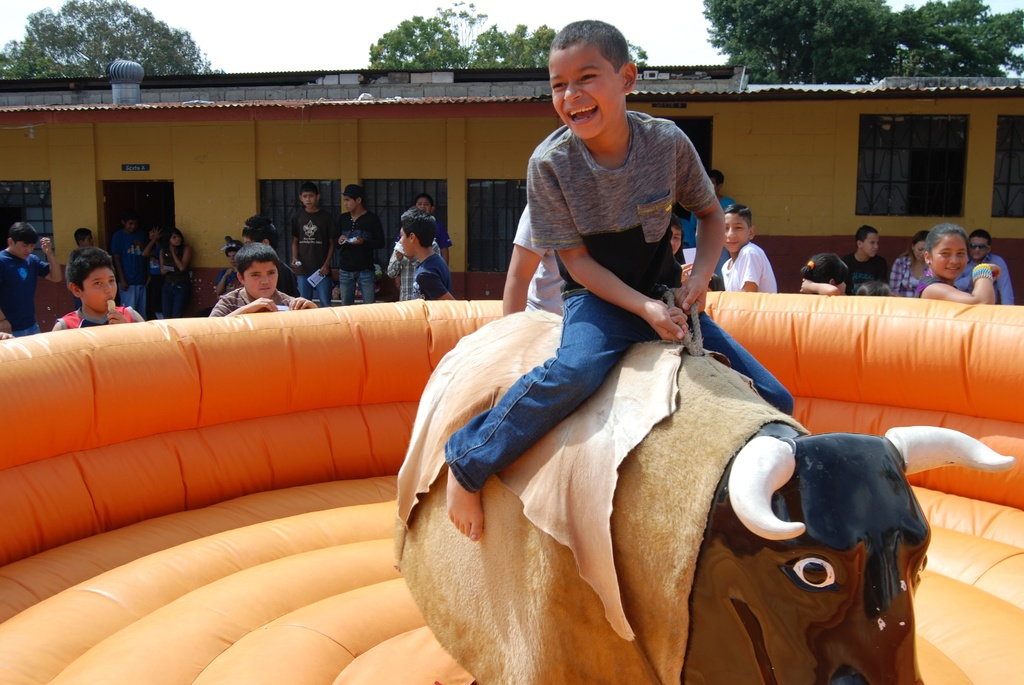Person: (0, 19, 1023, 542)
